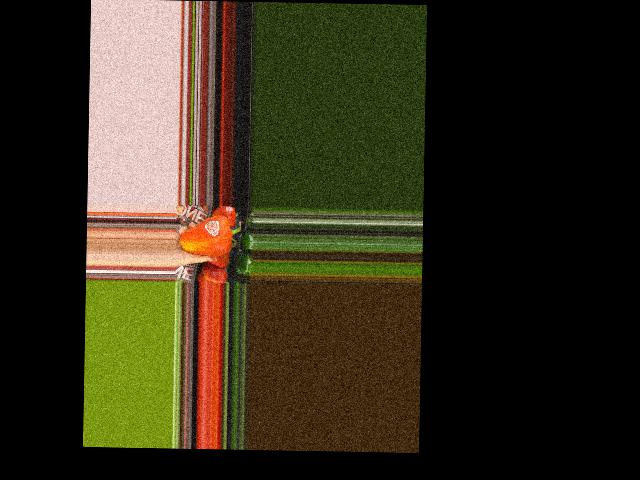bell_pepper: (180, 213, 242, 261)
